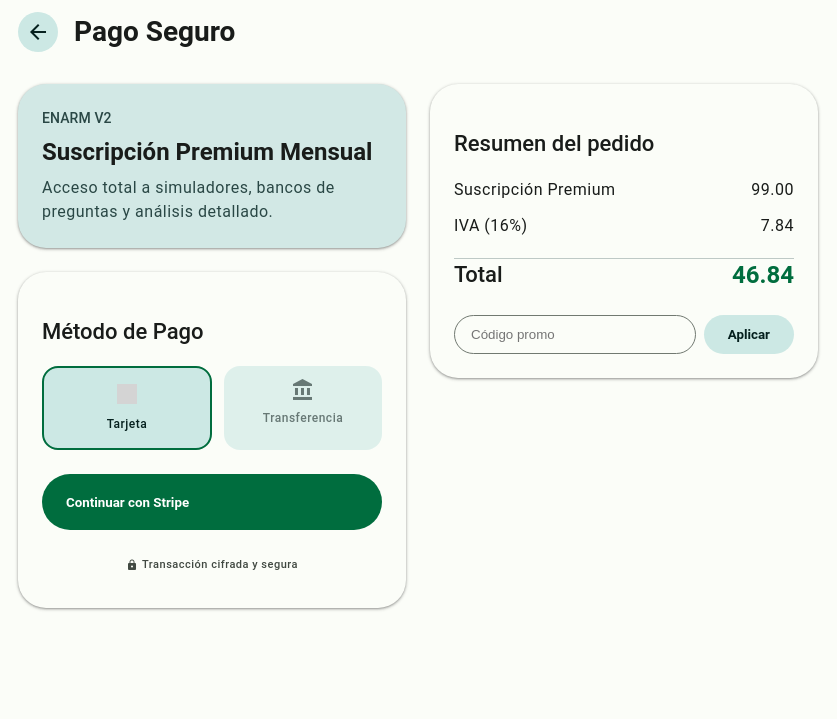
Test case: V2Checkout › shows error message on payment failure
The width and height of the screenshot is (837, 719).
Click the button "Continuar con Stripe" at {"x": 128, "y": 502}, box [42,474,382,530]
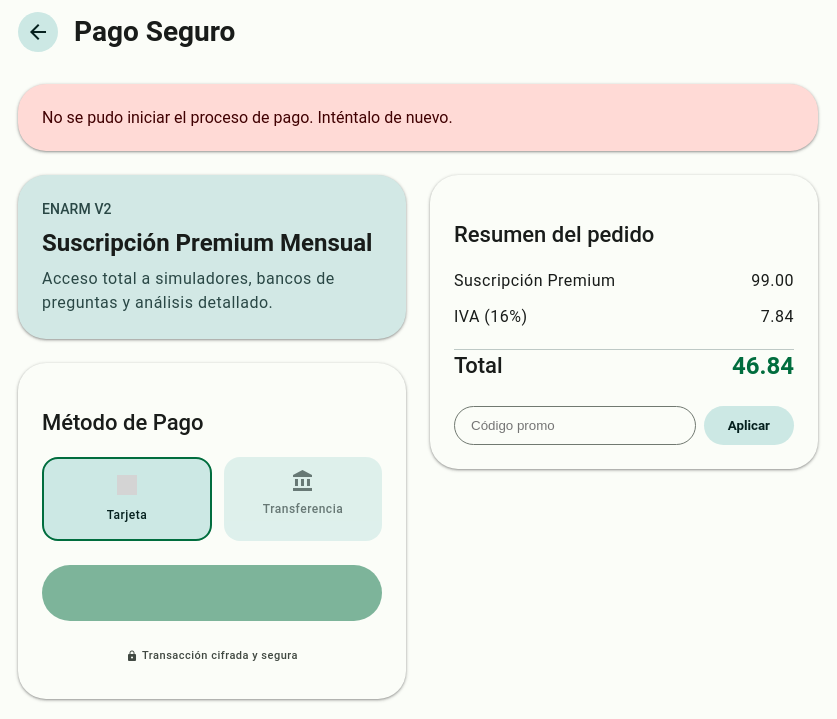
Now the text "No se pudo iniciar el proceso de pago. Inténtalo de nuevo." is shown, box [18,84,818,151]
